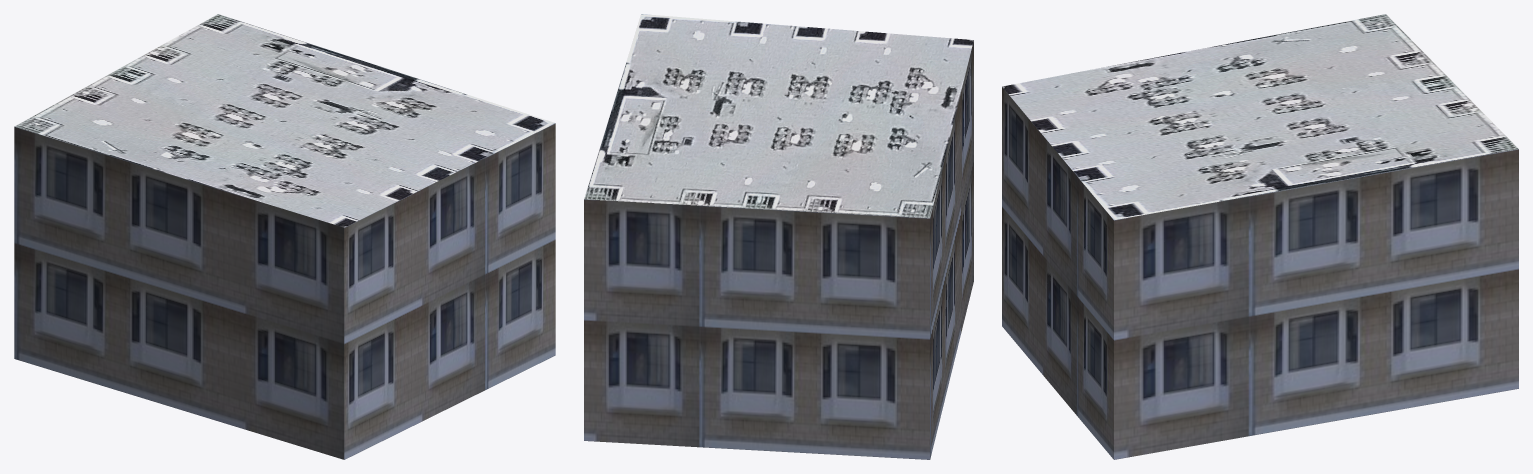
File: ResTex__1490.fbx
3 renders of one model, left to right at view 1: azimuth 30°, elevation 25°; view 2: azimuth 150°, elevation 25°; view 3: azimuth 270°, elevation 25°, orthographic. The views are drawn at different scales.
Visible parts, largest first — view 1: CityEngineMaterial_3_m, CityEngineMaterial_4_m; view 2: CityEngineMaterial_3_m, CityEngineMaterial_4_m; view 3: CityEngineMaterial_3_m, CityEngineMaterial_4_m.
Part boxes in pixels (left/top/right/bottom): CityEngineMaterial_3_m: left=14, top=123, right=555, bottom=459; CityEngineMaterial_4_m: left=14, top=14, right=555, bottom=227; CityEngineMaterial_3_m: left=584, top=40, right=973, bottom=459; CityEngineMaterial_4_m: left=584, top=14, right=973, bottom=218; CityEngineMaterial_3_m: left=1002, top=87, right=1518, bottom=459; CityEngineMaterial_4_m: left=1002, top=14, right=1518, bottom=220.
Bounding box in the file's own units: 11.07 × 6 × 11.73.
Materials: 2 (2 with a texture image).
